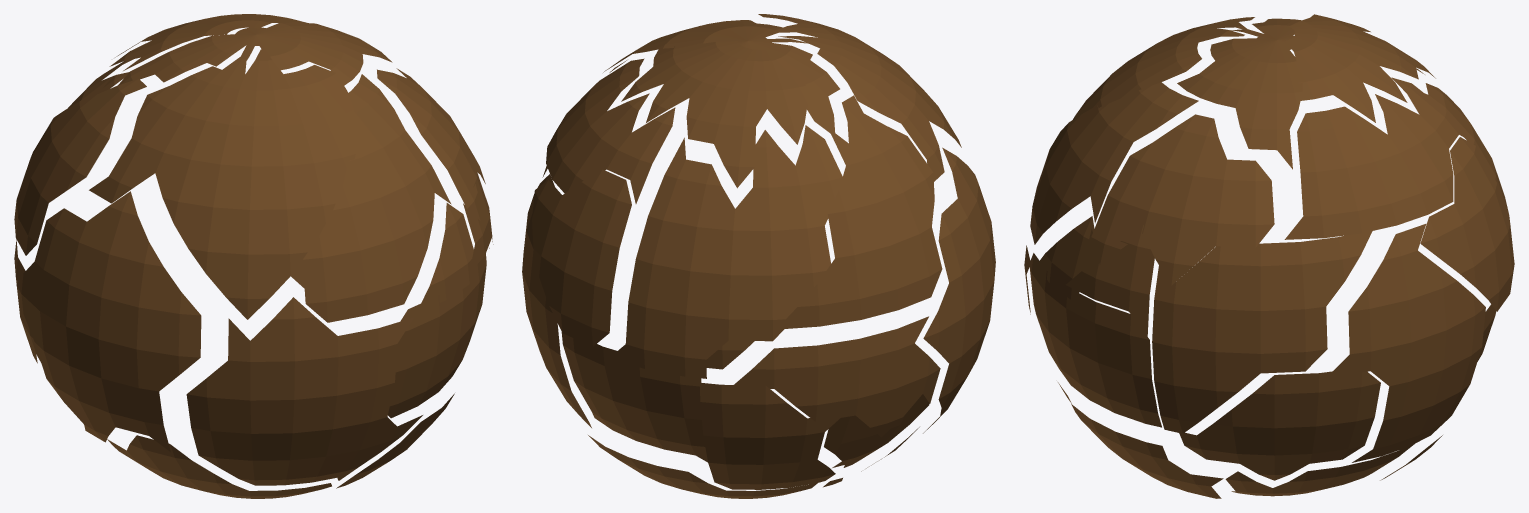
The model's file is attackAtShield-explosion.glb.
3 renders of one model, left to right at view 1: azimuth 30°, elevation 25°; view 2: azimuth 150°, elevation 25°; view 3: azimuth 270°, elevation 25°, orthographic.
Visible parts, largest first — view 1: Sphere.017, Sphere.018, Sphere.012, Sphere.016, Sphere.004, Sphere.010, Sphere.021, Sphere.007, Sphere.003, Sphere.001, Sphere.013, Sphere.005 (+3 smaller); view 2: Sphere.019, Sphere.004, Sphere.001, Sphere, Sphere.024, Sphere.020, Sphere.023, Sphere.018, Sphere.015, Sphere.017, Sphere.010, Sphere.009 (+2 smaller); view 3: Sphere.011, Sphere.009, Sphere.015, Sphere.007, Sphere.008, Sphere.021, Sphere.016, Sphere.010, Sphere.024, Sphere.001, Sphere.017, Sphere.005 (+4 smaller).
Boxes of the visible parts, <box> form: Sphere.017: <box>89,49,357,319</box>; Sphere.018: <box>16,191,201,452</box>; Sphere.012: <box>186,297,422,485</box>; Sphere.016: <box>302,74,451,322</box>; Sphere.004: <box>14,76,146,255</box>; Sphere.010: <box>118,23,392,85</box>; Sphere.021: <box>388,253,486,418</box>; Sphere.007: <box>377,68,485,220</box>; Sphere.003: <box>107,435,331,498</box>; Sphere.001: <box>109,14,306,70</box>; Sphere.013: <box>421,203,473,302</box>; Sphere.005: <box>463,160,493,272</box>; Sphere.019: <box>609,125,842,378</box>; Sphere.004: <box>776,95,942,329</box>; Sphere.001: <box>621,41,826,188</box>; Sphere: <box>734,316,940,437</box>; Sphere.024: <box>532,169,631,346</box>; Sphere.020: <box>699,382,840,489</box>; Sphere.023: <box>561,332,754,462</box>; Sphere.018: <box>923,147,995,433</box>; Sphere.015: <box>546,58,675,203</box>; Sphere.017: <box>758,14,961,181</box>; Sphere.010: <box>603,20,839,133</box>; Sphere.009: <box>522,174,591,427</box>; Sphere.011: <box>1152,231,1372,433</box>; Sphere.009: <box>1328,224,1485,462</box>; Sphere.015: <box>1284,77,1474,239</box>; Sphere.007: <box>1091,114,1274,285</box>; Sphere.008: <box>1179,371,1380,480</box>; Sphere.021: <box>1029,253,1161,427</box>; Sphere.016: <box>1030,82,1198,244</box>; Sphere.010: <box>1177,18,1302,169</box>; Sphere.024: <box>1420,137,1514,311</box>; Sphere.001: <box>1285,14,1435,122</box>; Sphere.017: <box>1073,17,1254,119</box>; Sphere.005: <box>1066,224,1154,336</box>.
Bounding box in the file's own units: 2.09 × 2.12 × 2.12.
